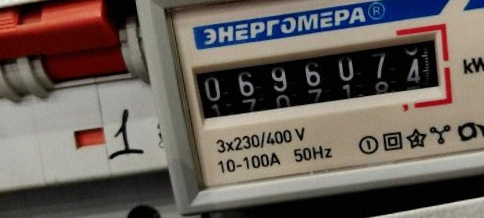0: (200, 73, 224, 103), (335, 52, 357, 83), (235, 68, 256, 96)
4: (402, 56, 423, 86)
6: (300, 56, 322, 88)
7: (368, 48, 390, 79)
9: (268, 63, 290, 93)
screen: (176, 18, 459, 139)
